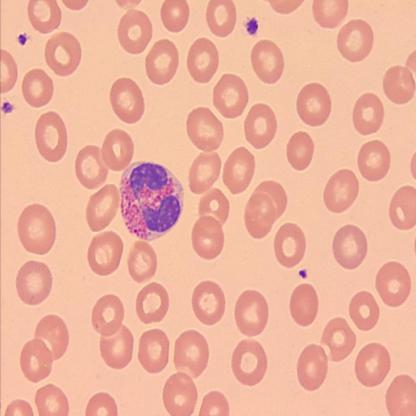Eosinophil: (119, 160, 185, 242)
